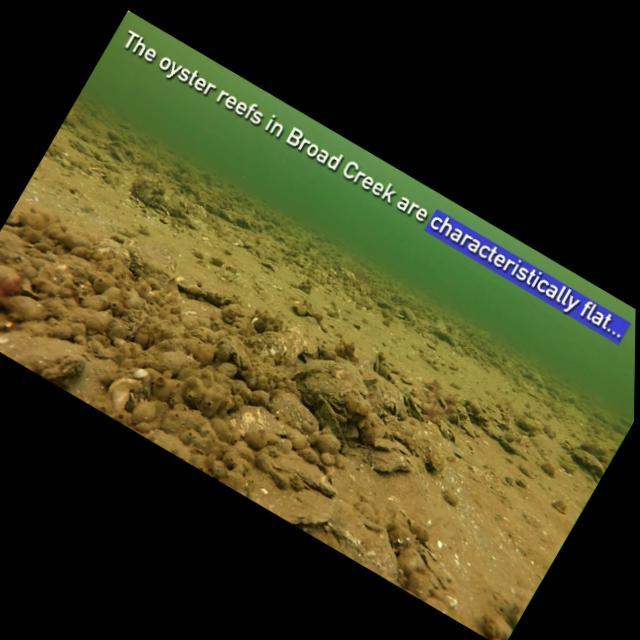Oyster-Closed: (511, 361, 551, 396)
Oyster-Indeterminate: (239, 459, 347, 545), (377, 396, 472, 477), (214, 392, 305, 476), (15, 328, 105, 404), (298, 396, 373, 461), (257, 384, 330, 449), (234, 317, 299, 379), (348, 363, 414, 424), (118, 231, 183, 291), (170, 285, 227, 340), (266, 314, 318, 373), (0, 279, 56, 331), (100, 367, 153, 421), (360, 437, 415, 487), (86, 228, 138, 274), (124, 171, 171, 215), (561, 442, 610, 484), (192, 276, 239, 317), (391, 539, 431, 580), (377, 515, 415, 557), (415, 586, 460, 620), (165, 266, 204, 304), (399, 564, 437, 603), (508, 408, 548, 444), (577, 429, 615, 465), (424, 319, 465, 352), (428, 416, 466, 449), (16, 274, 53, 306), (0, 253, 26, 298), (435, 483, 468, 518), (418, 563, 452, 595), (474, 418, 509, 449), (104, 143, 140, 173), (101, 123, 133, 152), (163, 185, 194, 214), (0, 237, 24, 272), (336, 264, 366, 292), (347, 288, 378, 315), (429, 581, 460, 608), (396, 301, 424, 328), (495, 420, 523, 447), (453, 413, 482, 439), (430, 390, 457, 417), (230, 212, 257, 237), (460, 397, 488, 421), (449, 398, 476, 422), (536, 458, 561, 483), (219, 232, 246, 255), (412, 525, 435, 550), (247, 243, 274, 264), (235, 230, 259, 252), (549, 497, 572, 519), (373, 295, 398, 315), (4, 209, 25, 232), (442, 403, 464, 423), (160, 199, 183, 217), (216, 207, 236, 226), (202, 199, 223, 217), (115, 119, 135, 137), (198, 169, 217, 187), (231, 235, 246, 250)
Oyster-Open: (286, 344, 373, 422), (171, 207, 202, 233), (155, 204, 173, 219)
